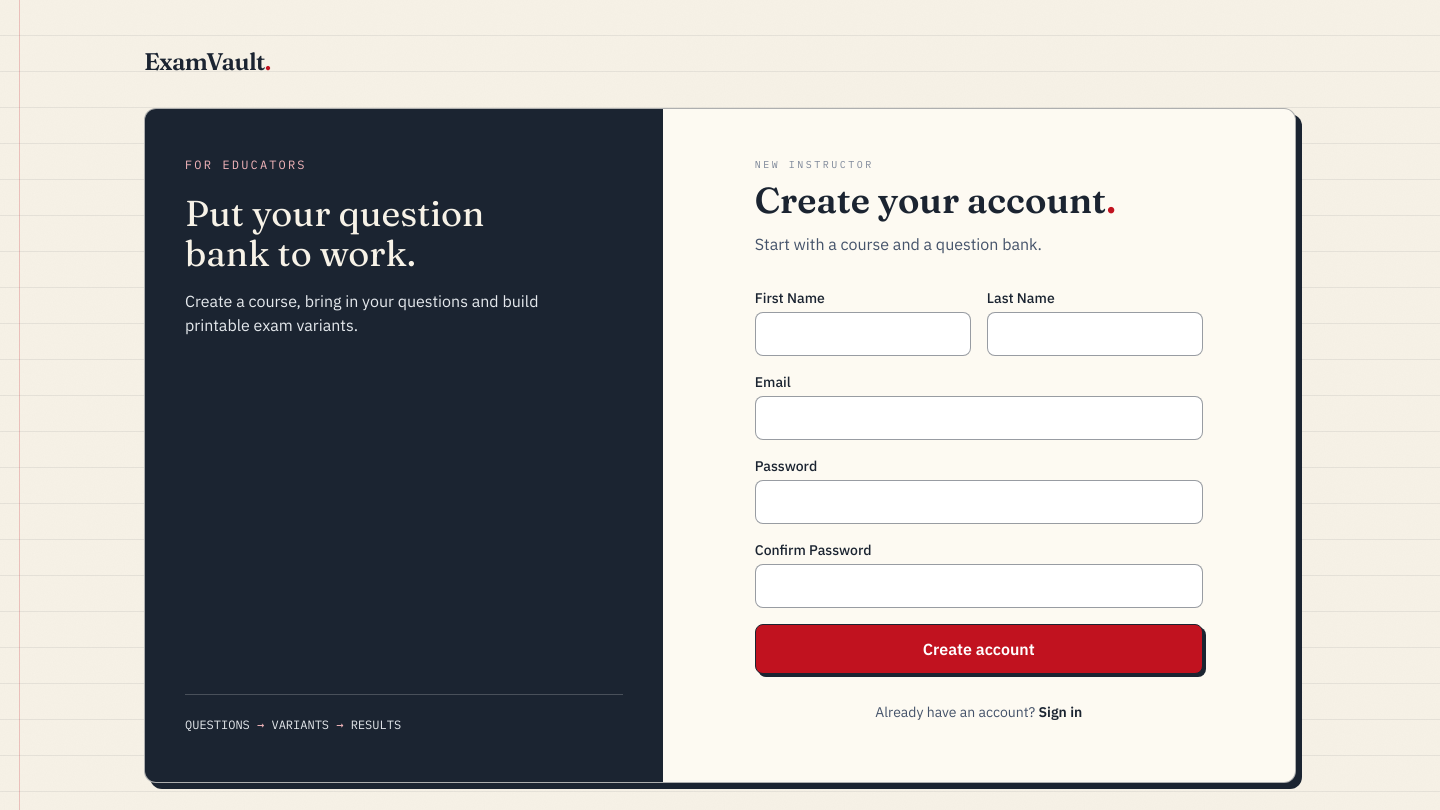
Scenario: Signup page › shows error when email is already registered
The width and height of the screenshot is (1440, 810).
Type "Jane" into the field labelled "First Name".
click(863, 334); type("Jane")  # box left=755, top=312, right=971, bottom=356
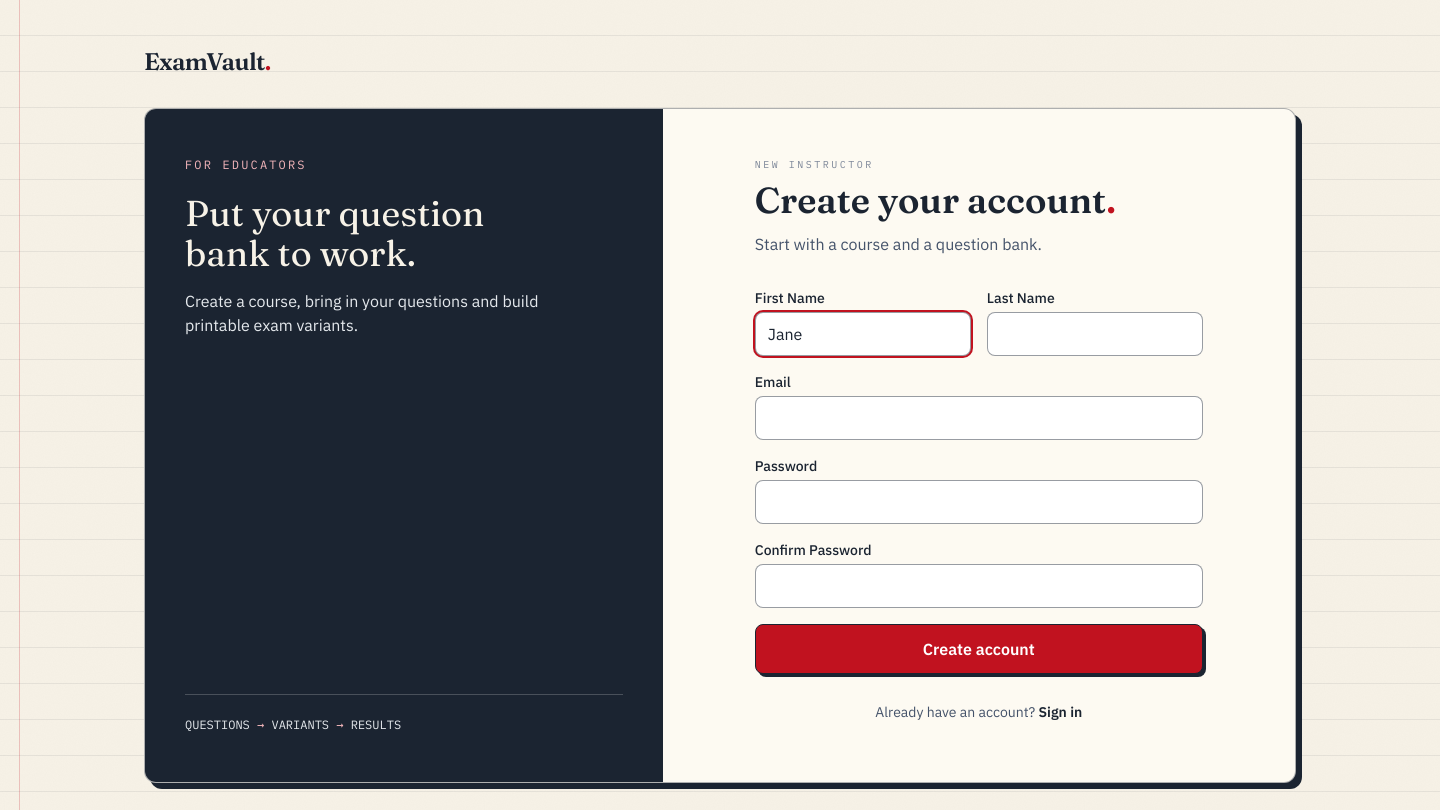
Type "Doe" into the field labelled "Last Name".
click(1095, 334); type("Doe")  # box left=987, top=312, right=1203, bottom=356
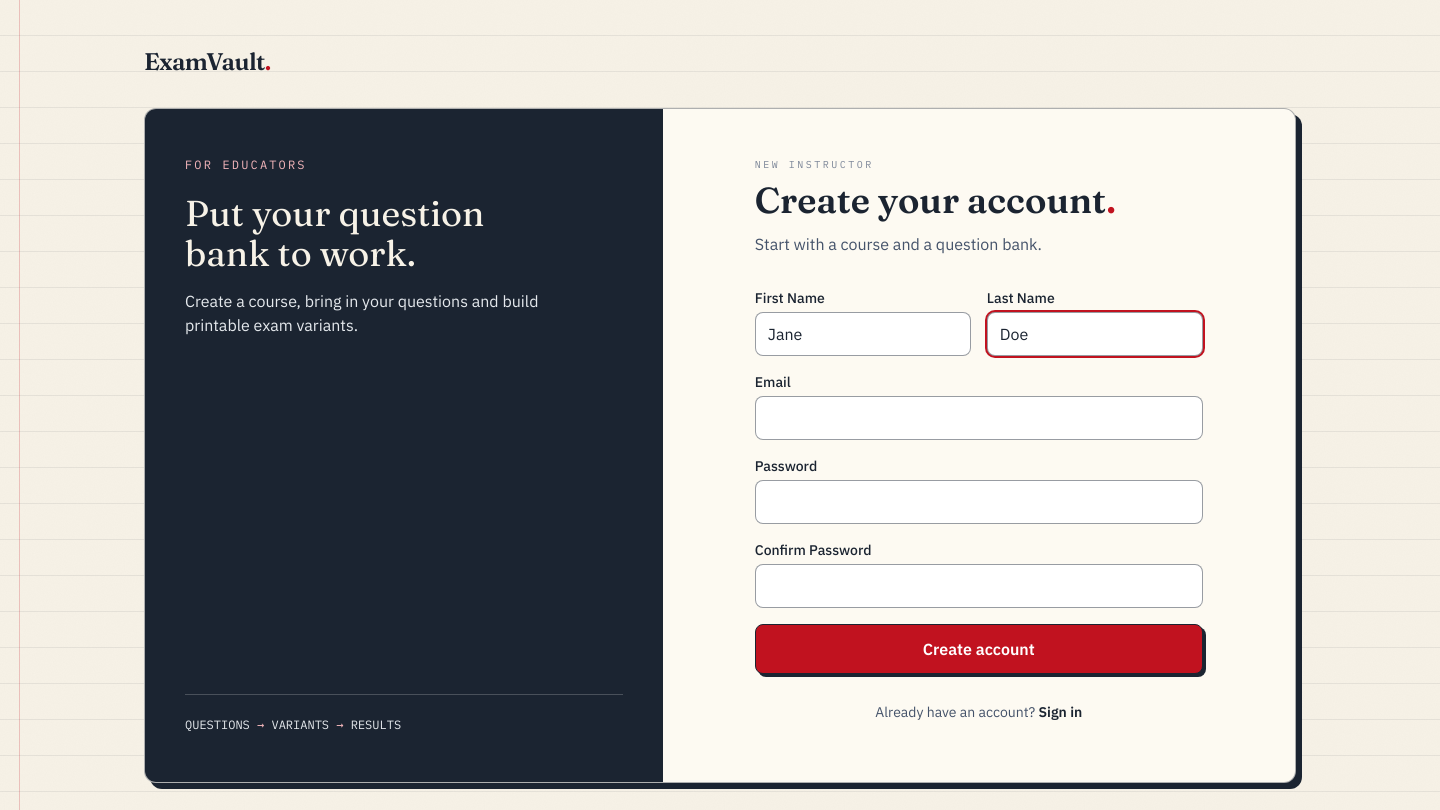
Type "existing@demo.com" into the field labelled "Email".
click(979, 418); type("existing@demo.com")  # box left=755, top=396, right=1203, bottom=440
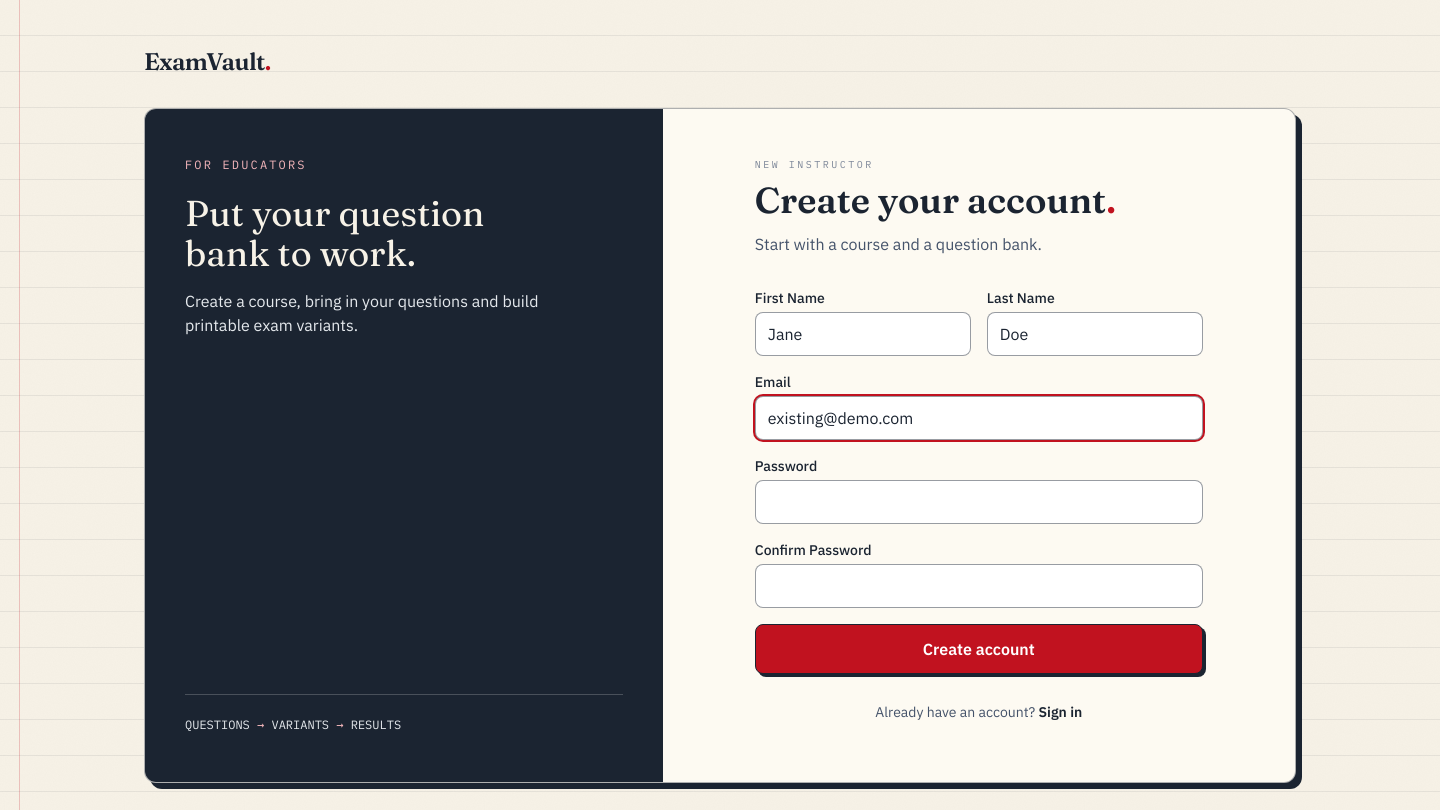
Type "Password1!" into the password field labelled "Password".
click(979, 502); type("Password1!")  # box left=755, top=480, right=1203, bottom=524
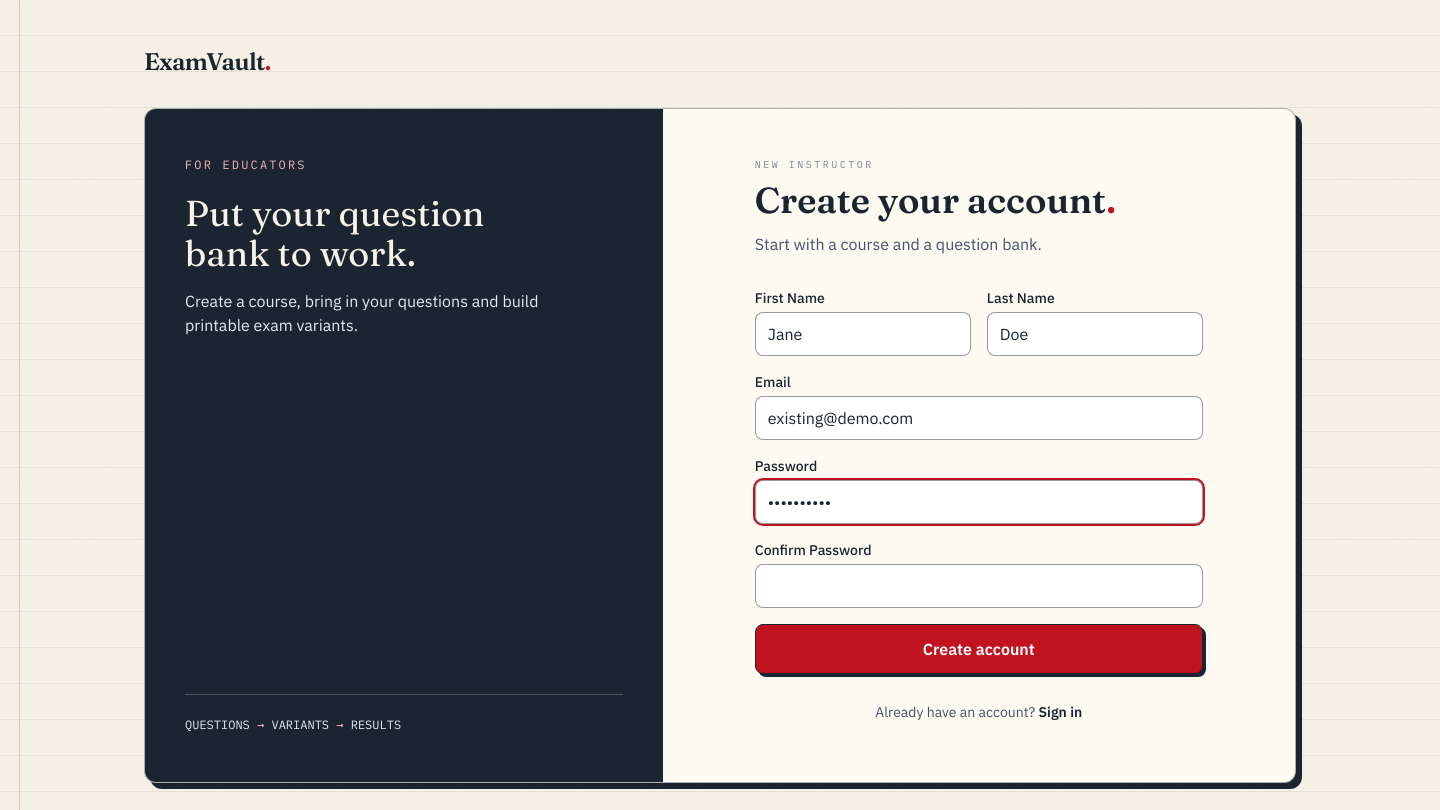
Type "Password1!" into the password field labelled "Confirm Password".
click(979, 586); type("Password1!")  # box left=755, top=564, right=1203, bottom=608
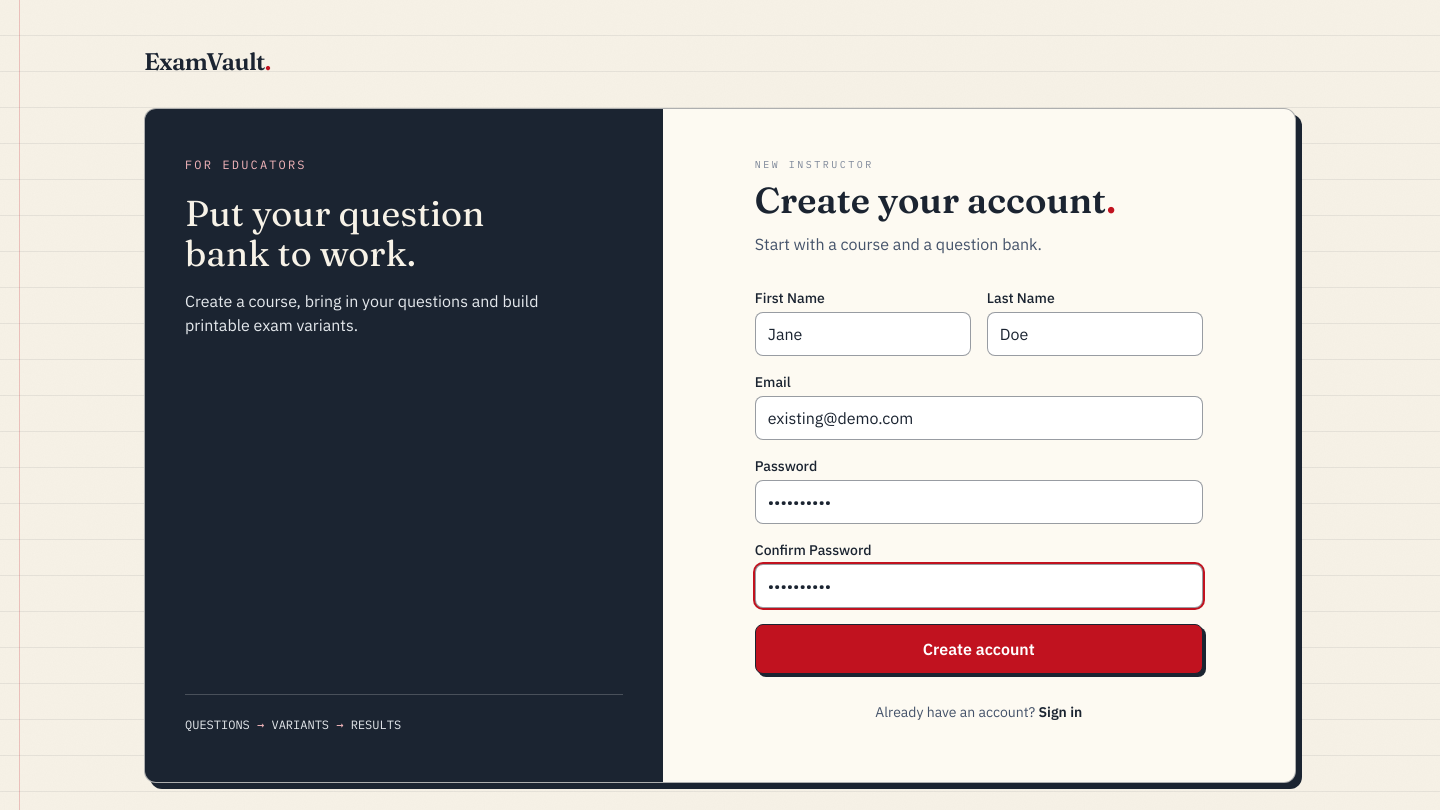
Click the button "Create account".
click(979, 649)  # box left=755, top=624, right=1203, bottom=674
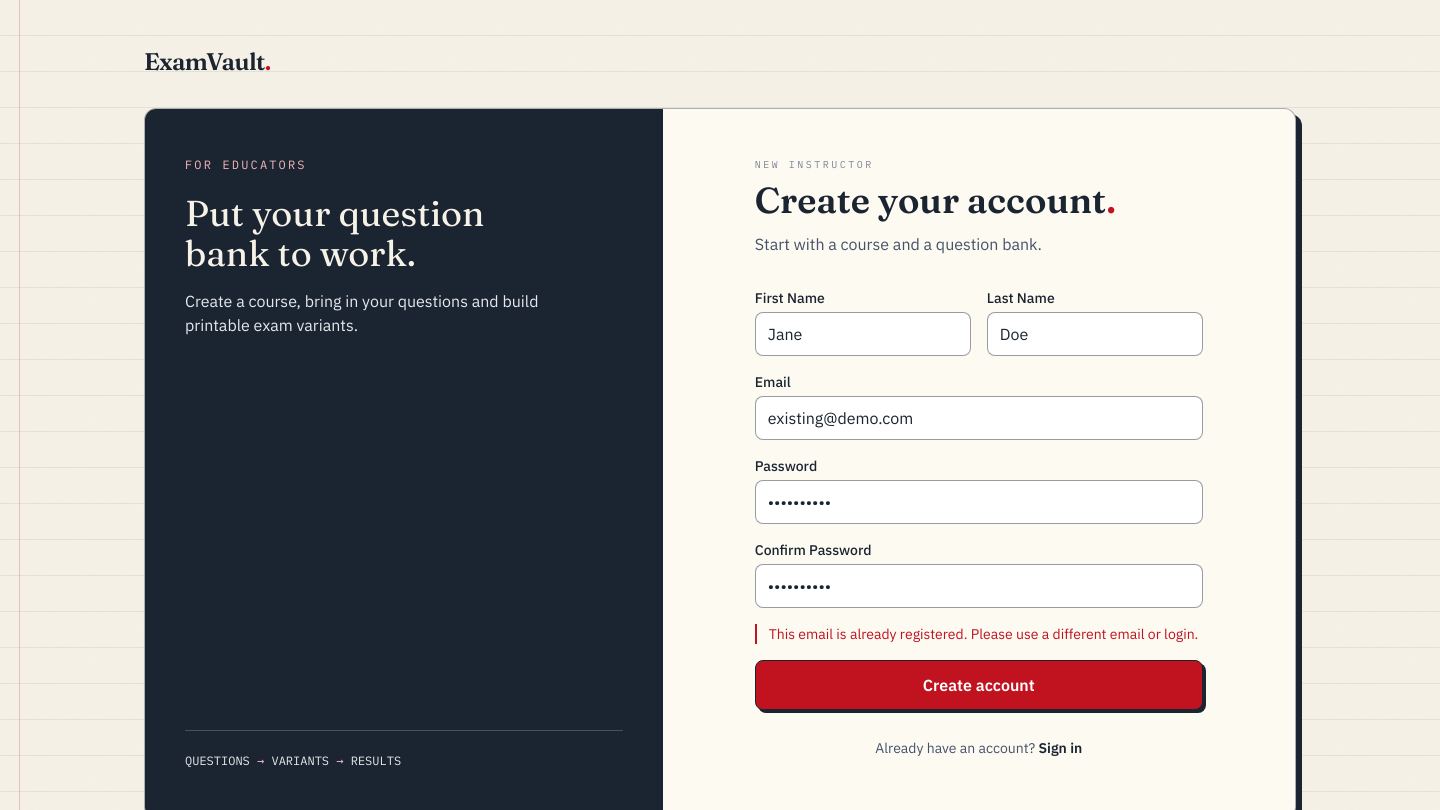
Expected: the text "This email is already registered. Please use a different email or login." is shown, left=755, top=624, right=1203, bottom=644
